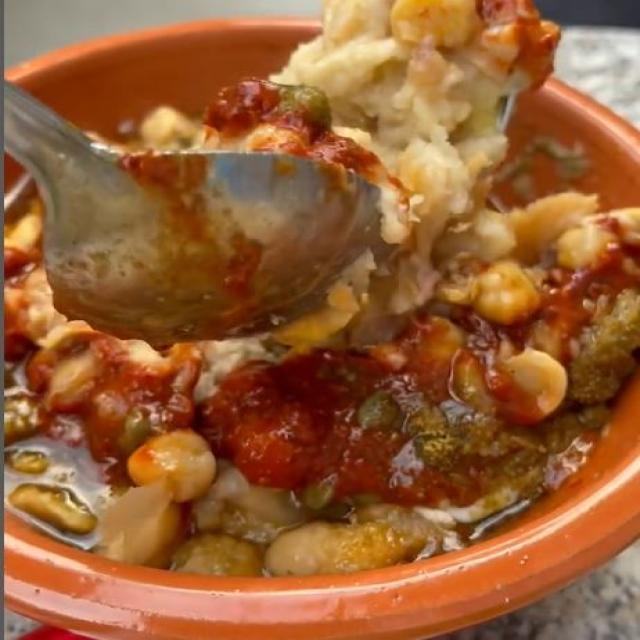Lablabi: (9, 25, 628, 600)
